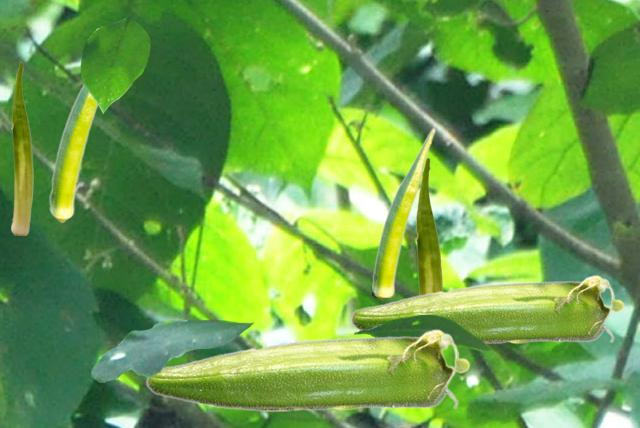okra: (145, 328, 469, 411), (350, 274, 623, 344), (372, 127, 434, 296), (49, 85, 98, 222), (415, 157, 442, 294), (11, 61, 32, 234)
